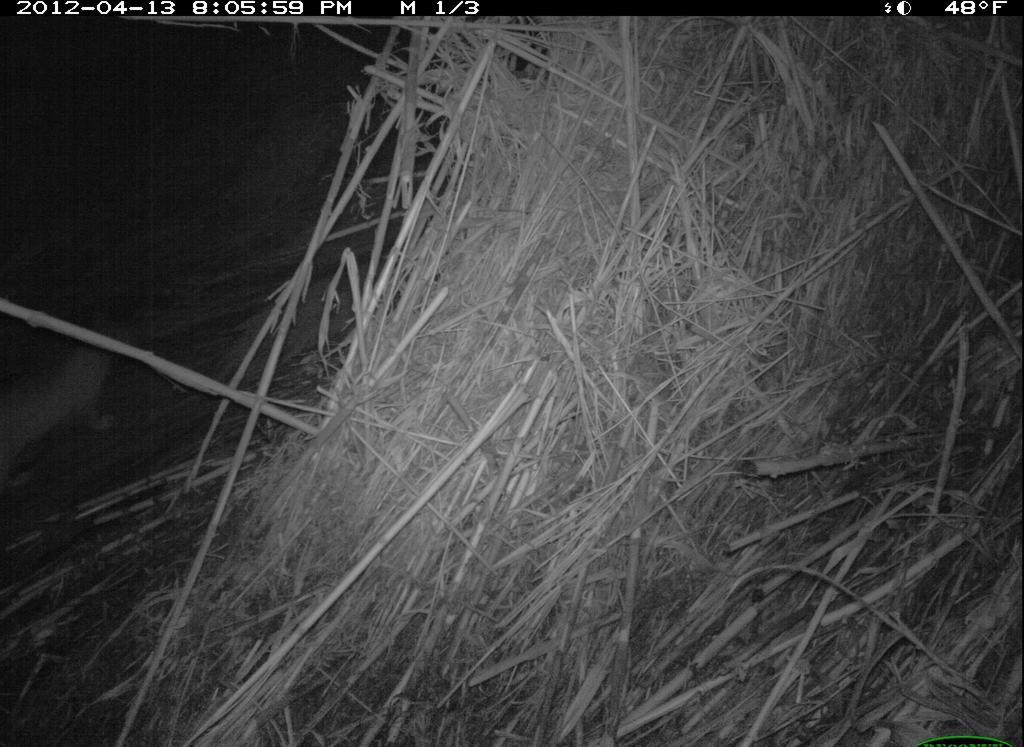bobcat: (2, 312, 129, 481)
